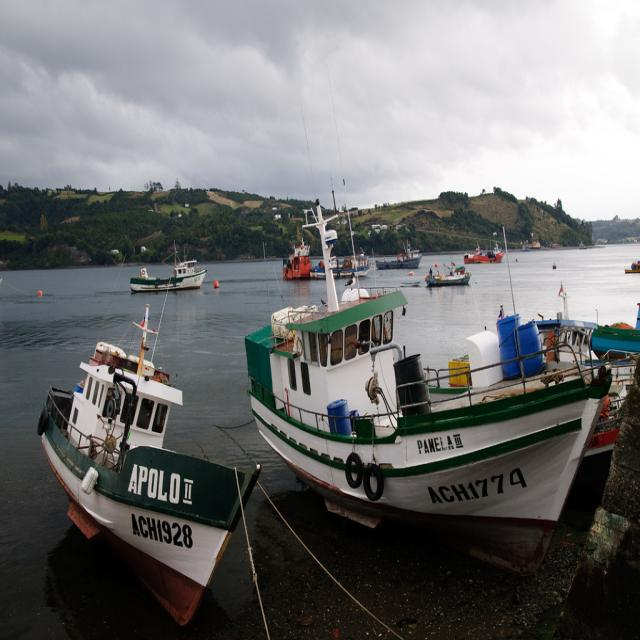Boat: (244, 202, 620, 640), (32, 306, 256, 628), (546, 312, 639, 408), (127, 238, 210, 296), (280, 238, 366, 278), (427, 253, 476, 294), (456, 234, 502, 260), (377, 240, 413, 270)
